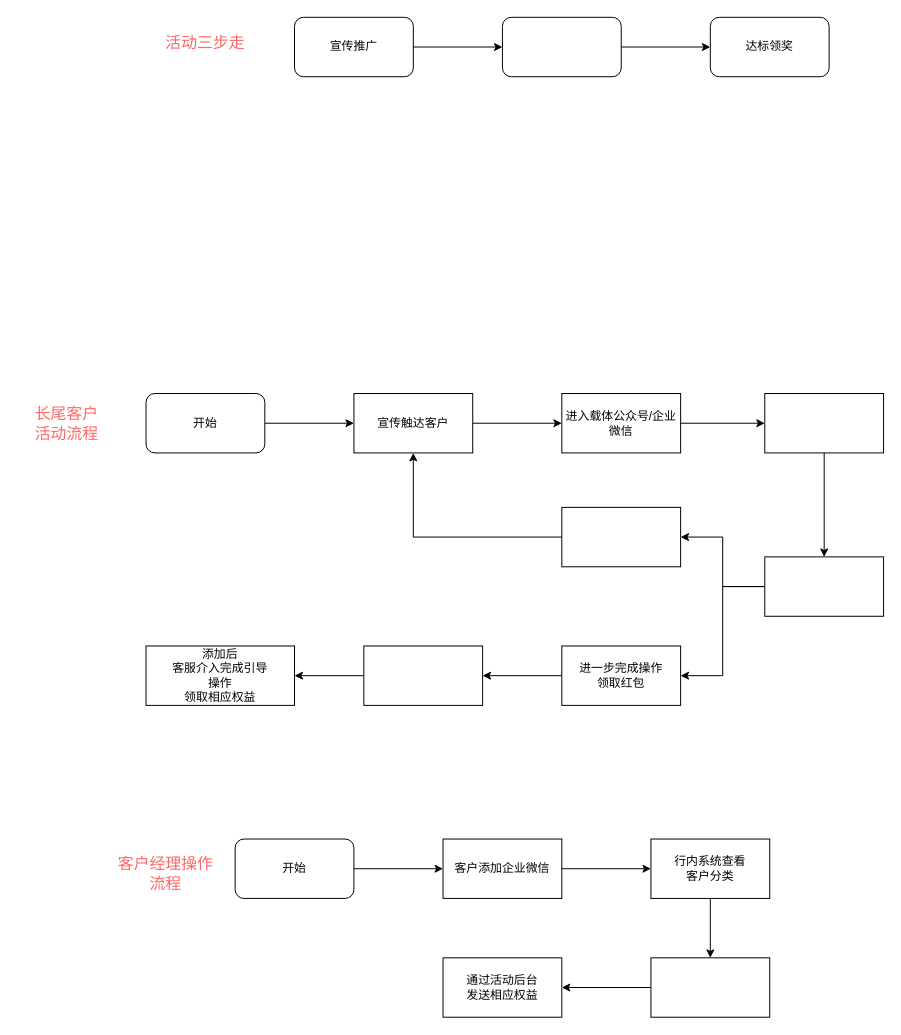
Some shapes in this 901 by 1035 pixel diagram are drawn without their labels. The shapes that lost their labels are listed below. From the top down, each one's centre as x and y in pixels, then its label:
At point 561,46: "触达裂变".
At point 824,423: "回复关键词，返回 活动链接".
At point 621,536: "推广至其他客户".
At point 824,586: "点击活动链接 领取红包".
At point 423,675: "自动分配客服二维码 填写信息".
At point 710,987: "根据客户类型 引导操作".
